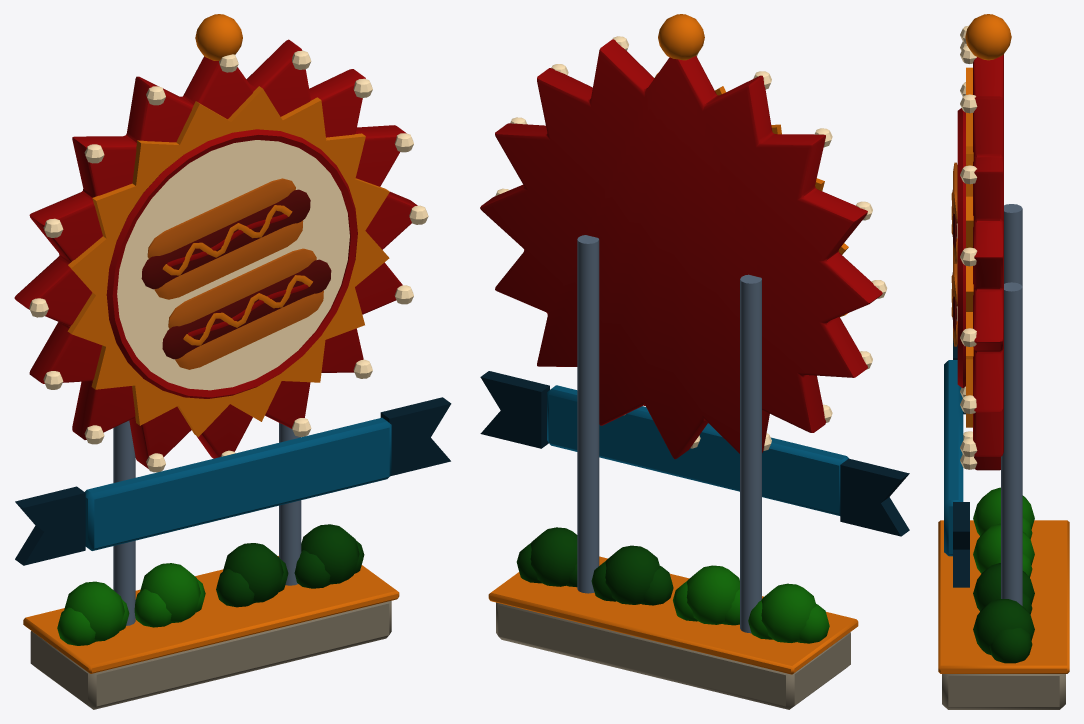
File: BogoSign.obj
3 views of the same model, side by side, from view 1: azimuth 30°, elevation 25°; view 2: azimuth 150°, elevation 25°; view 3: azimuth 270°, elevation 25° (orthographic). The views are drawn at different scales.
Visible parts, largest first — view 1: BogoSign; view 2: BogoSign; view 3: BogoSign.
Boxes of the visible parts, x1=… form: BogoSign: x1=14, y1=14, x2=451, y2=709; BogoSign: x1=480, y1=14, x2=909, y2=709; BogoSign: x1=938, y1=14, x2=1069, y2=709.
Size of the model in its own units: 6.2 by 8.9 by 1.7.
